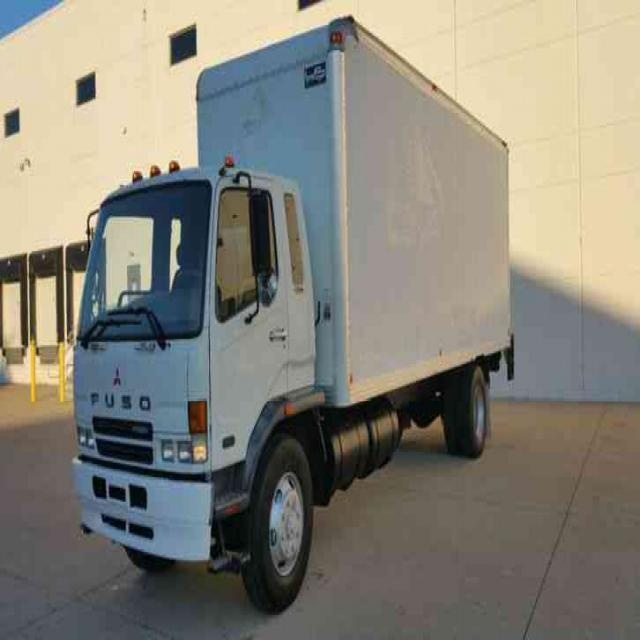Truck: (70, 16, 514, 612)
